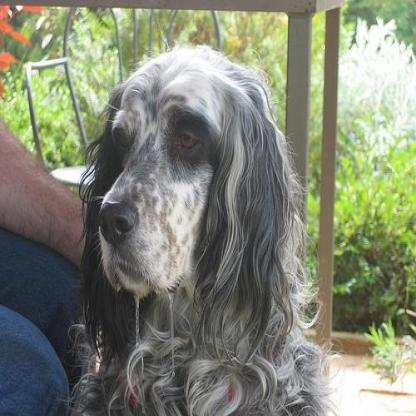English_setter: (64, 42, 335, 412)
